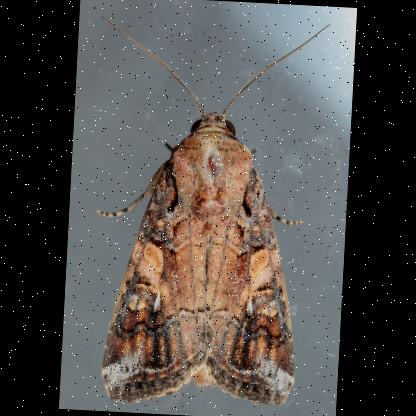Fall Armyworm Moth: (76, 6, 334, 416)
